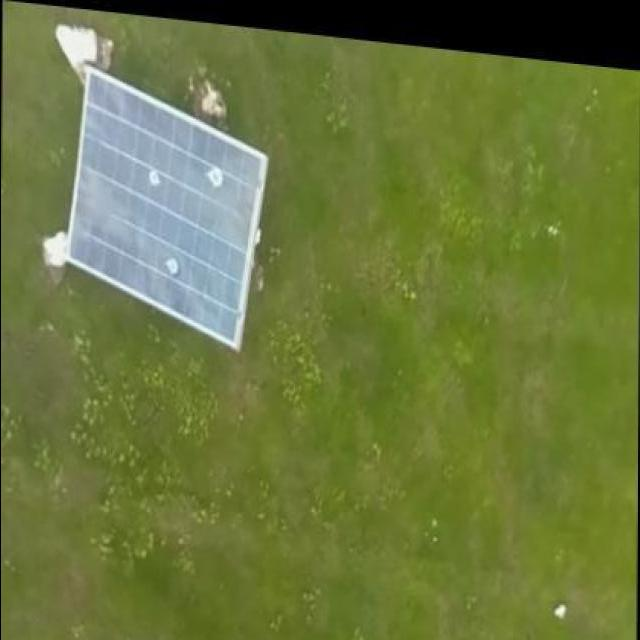soiled: (63, 65, 274, 358)
